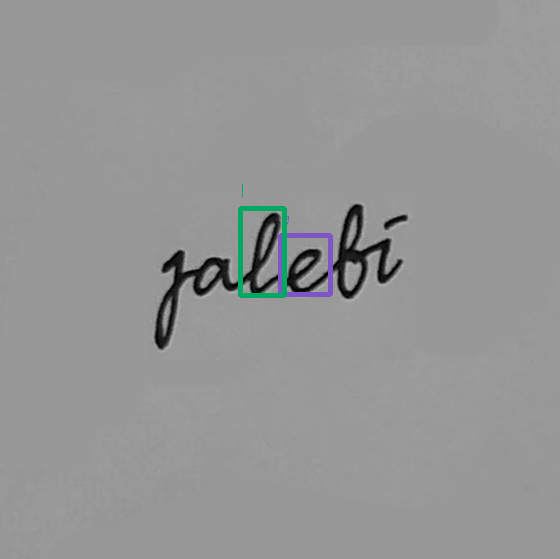a: (190, 252, 234, 302)
b: (330, 200, 372, 301)
e: (286, 243, 326, 298)
i: (373, 209, 411, 286)
j: (149, 246, 190, 352)
l: (244, 205, 284, 300)
